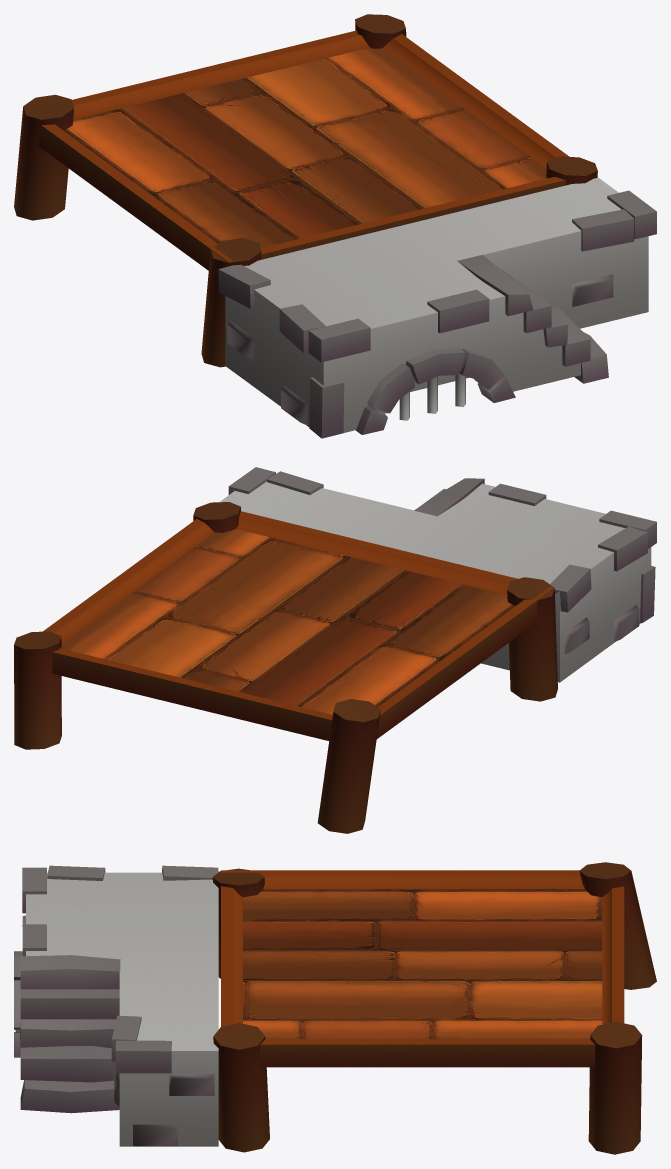
Rendered from VikingHouse_02_M.fbx.
3 views of the same model, one above another, from view 1: azimuth 30°, elevation 25°; view 2: azimuth 150°, elevation 25°; view 3: azimuth 270°, elevation 25° (orthographic). The views are drawn at different scales.
Visible parts, largest first — view 1: VikingHouse_02_M; view 2: VikingHouse_02_M; view 3: VikingHouse_02_M.
Boxes of the visible parts, box(x1,y1,x2,y2) form: VikingHouse_02_M: box(14, 14, 656, 438); VikingHouse_02_M: box(14, 467, 656, 833); VikingHouse_02_M: box(14, 862, 656, 1154).
Size of the model in its own units: 209 by 60.78 by 305.
Materials: 1 (1 with a texture image).
